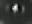person: (13, 4, 19, 16), (21, 5, 26, 16)
